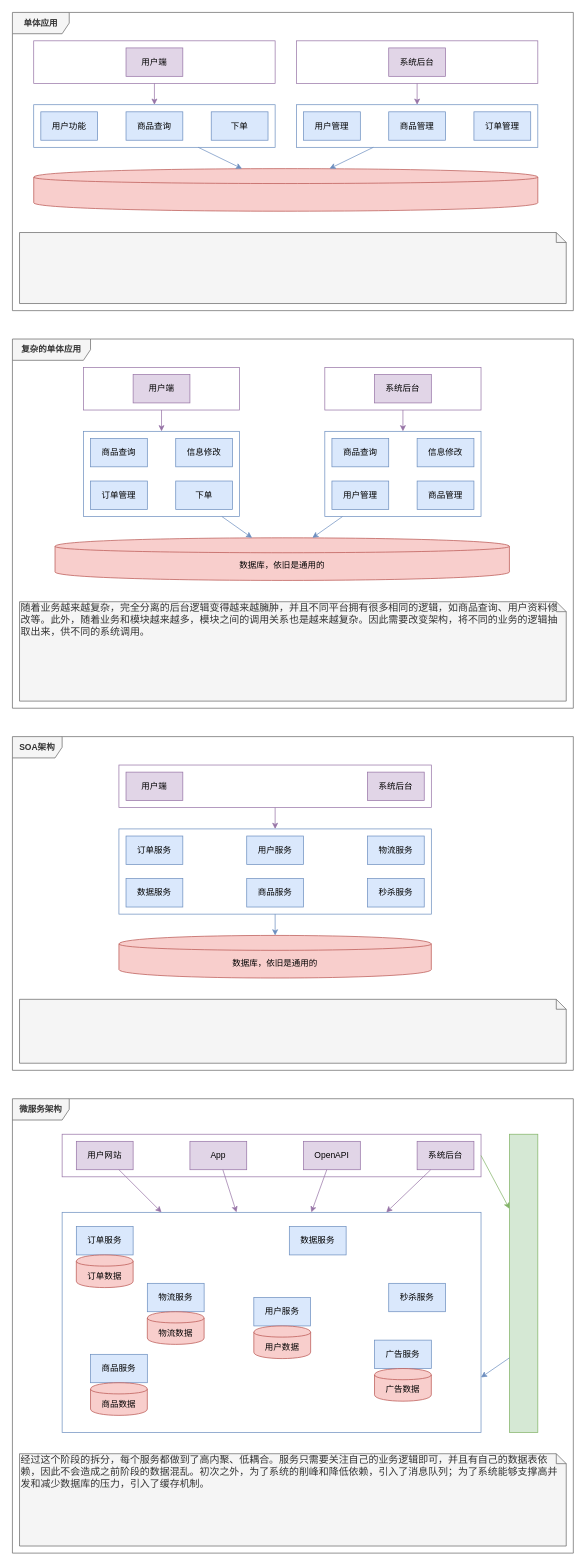
The diagram is 586 pixels wide and 1566 high, and some of its shapes have lost their labels. Each missing label, with the centre of its shape:
"数据库，所有数据都在这了" belongs at (x=285, y=189).
"消息 队列" belongs at (x=523, y=1283).
"用户和系统后台的逻辑都是不一样的，因此使用不同的代码实现； 所有操作都是直接访问数据库，所有数据都存在同一个数据库中。" belongs at (x=292, y=268).
"这个阶段里，将服务都分开了，不过数据库依旧是公用的。因此会出现某个服务使用了其他服务的数据，造成服务的数据表依赖混乱。" belongs at (x=292, y=1031).
